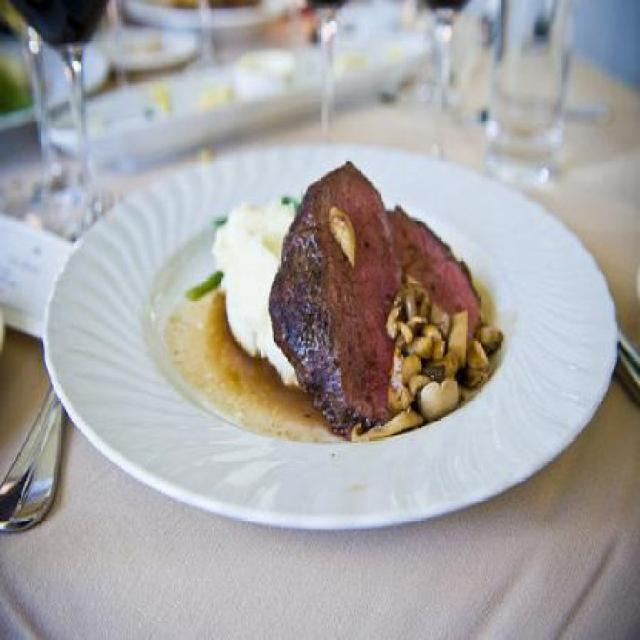Steak: (271, 167, 520, 450)
